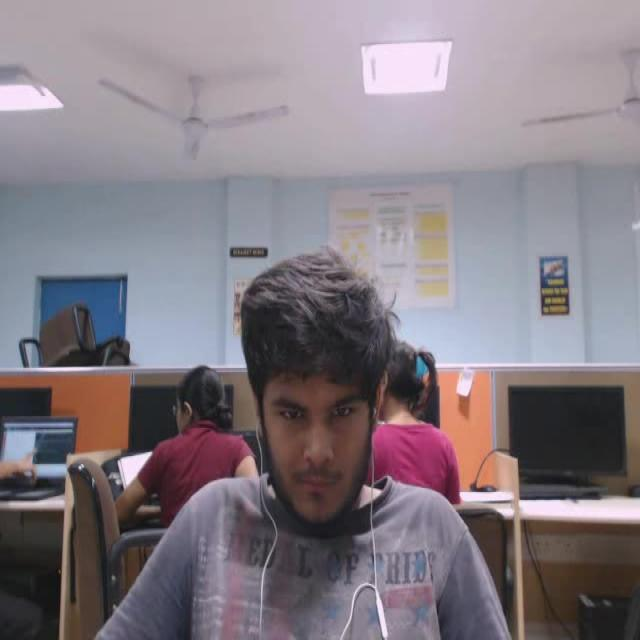Engaged: (214, 232, 442, 601)
